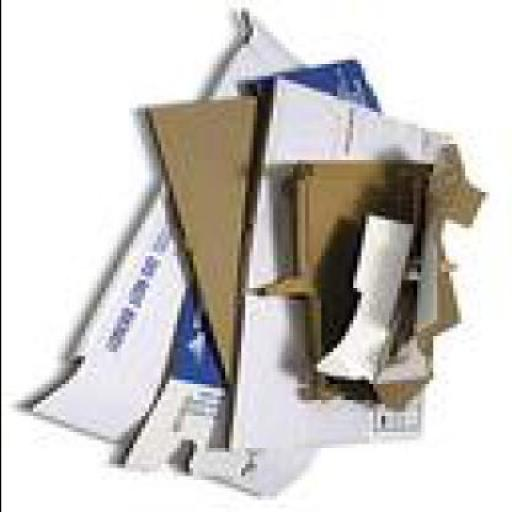cardboard: (20, 4, 384, 492), (116, 55, 396, 496), (224, 80, 455, 452), (244, 140, 488, 400), (144, 92, 265, 384), (312, 192, 444, 380)
